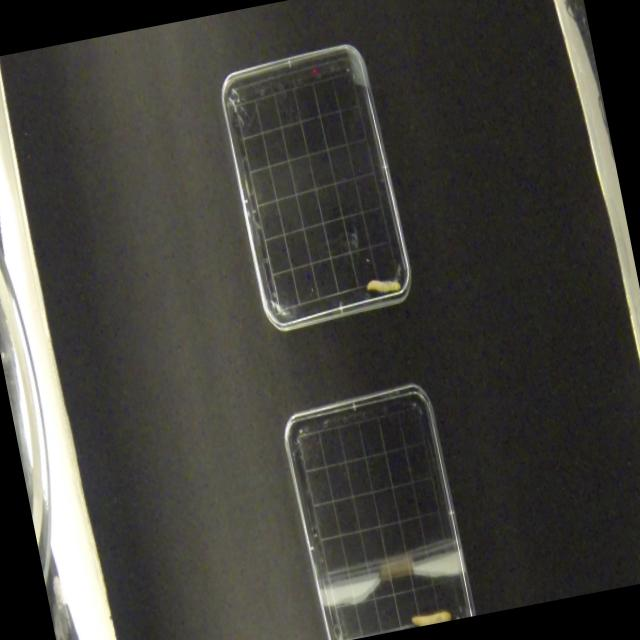larva: (367, 271, 402, 301), (410, 608, 452, 628)
